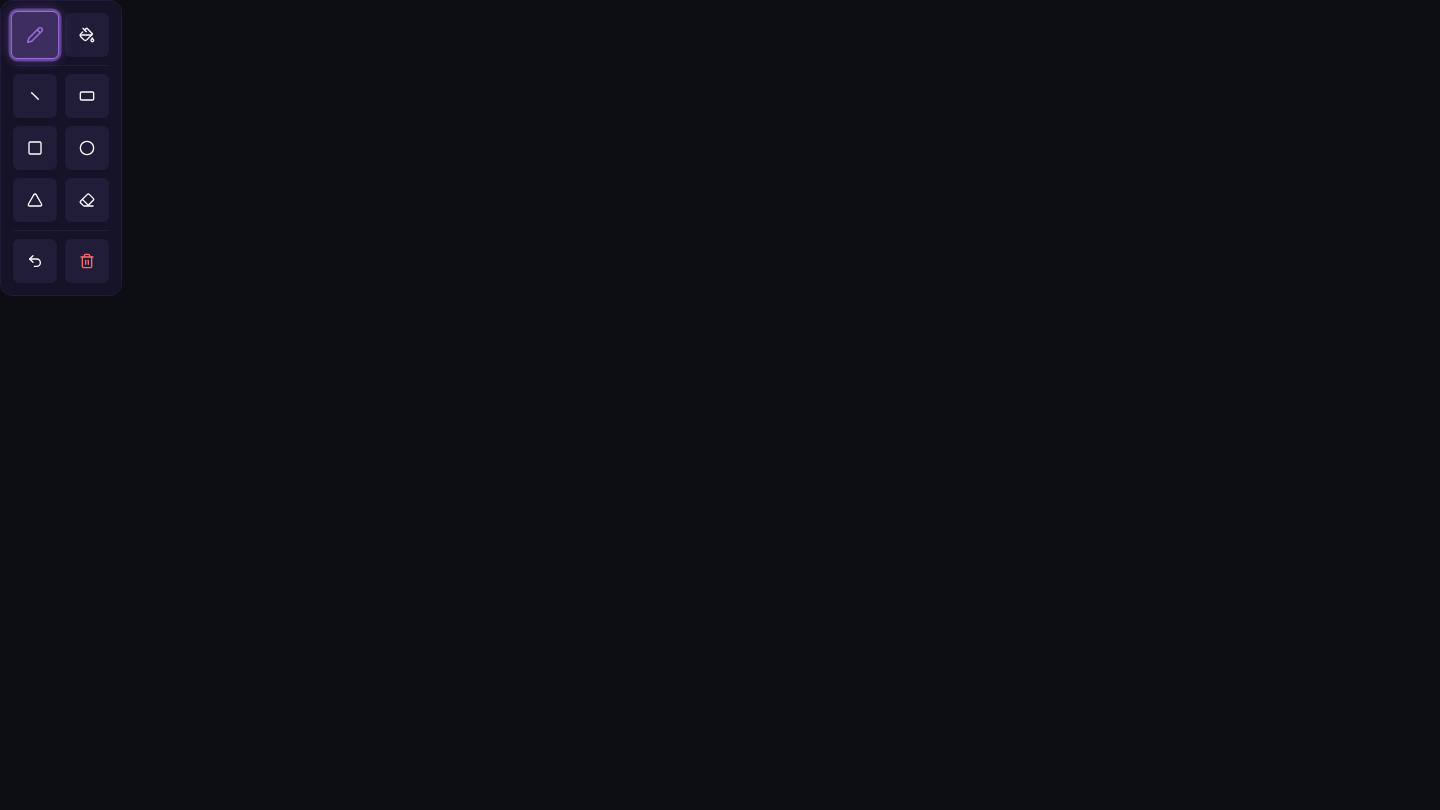
Test: clear button › clicking clear opens a confirmation dialog
This screenshot has width=1440, height=810.
Click the button named "Clear" at {"x": 87, "y": 261}, box [65,239,109,283]
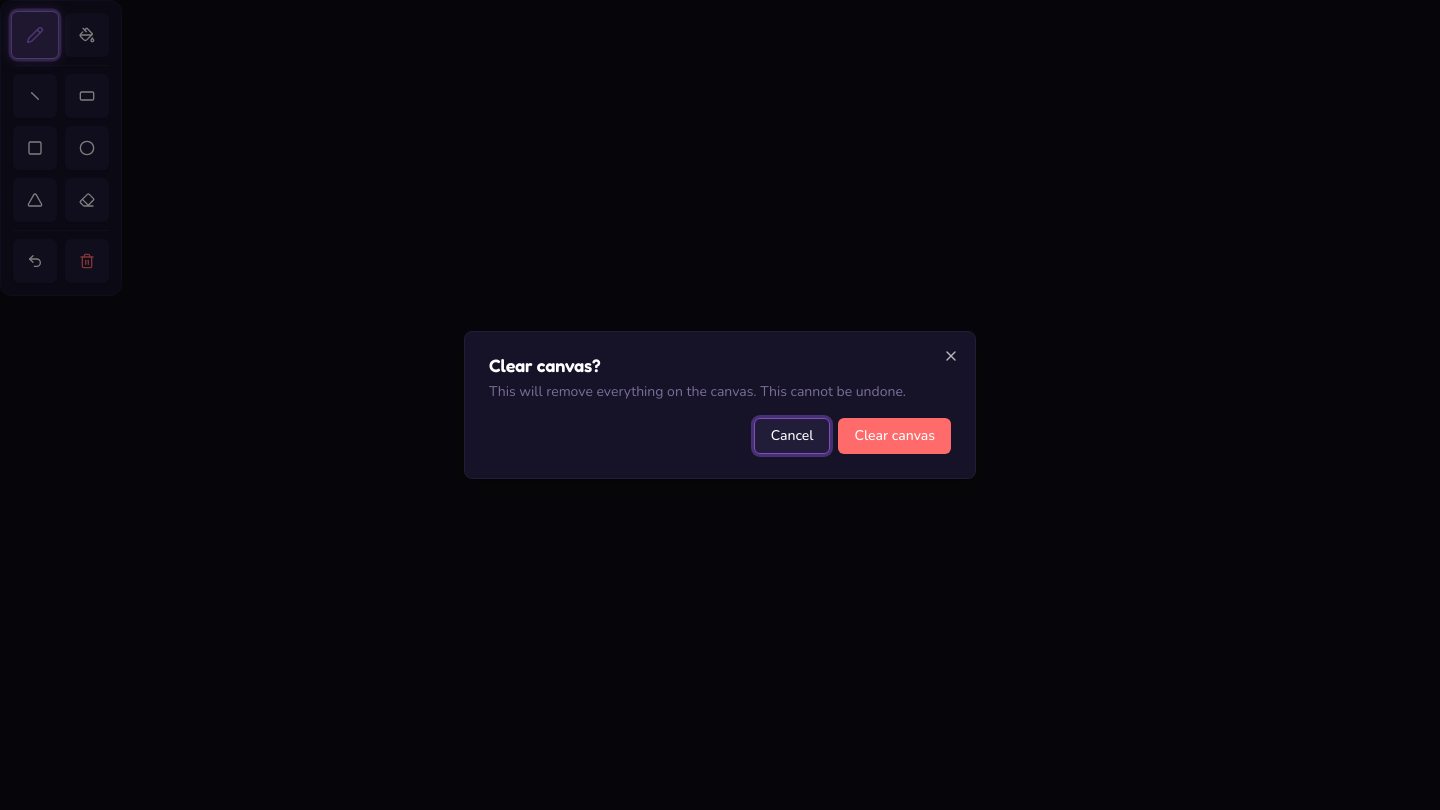
Now the heading "Clear canvas?" is shown, box [489,354,600,376]
